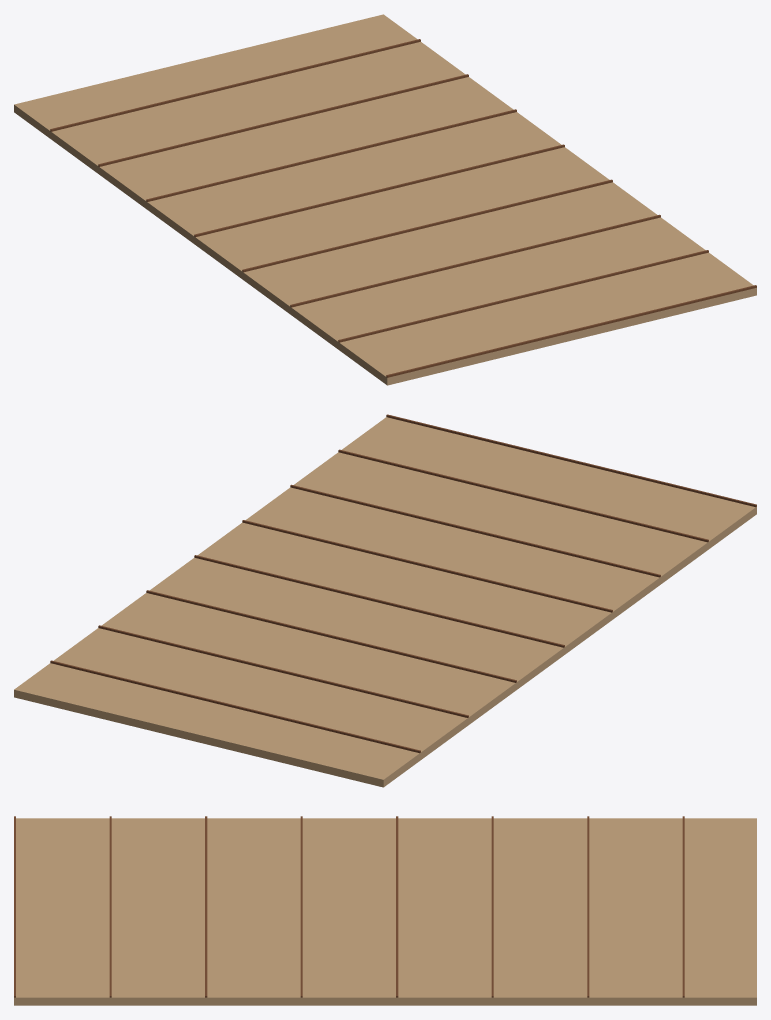
The picture shows the model from 3 angles, top to bottom: view 1: azimuth 30°, elevation 25°; view 2: azimuth 150°, elevation 25°; view 3: azimuth 270°, elevation 25°; orthographic projection.
Parts seen in each view (by area): view 1: base; view 2: base; view 3: base.
Boxes of the visible parts, x1,y1,x2,y2 form: base: [14, 14, 756, 385]; base: [14, 414, 756, 787]; base: [14, 816, 756, 1005].
Bounding box in the file's own units: 4 × 0.1 × 7.
